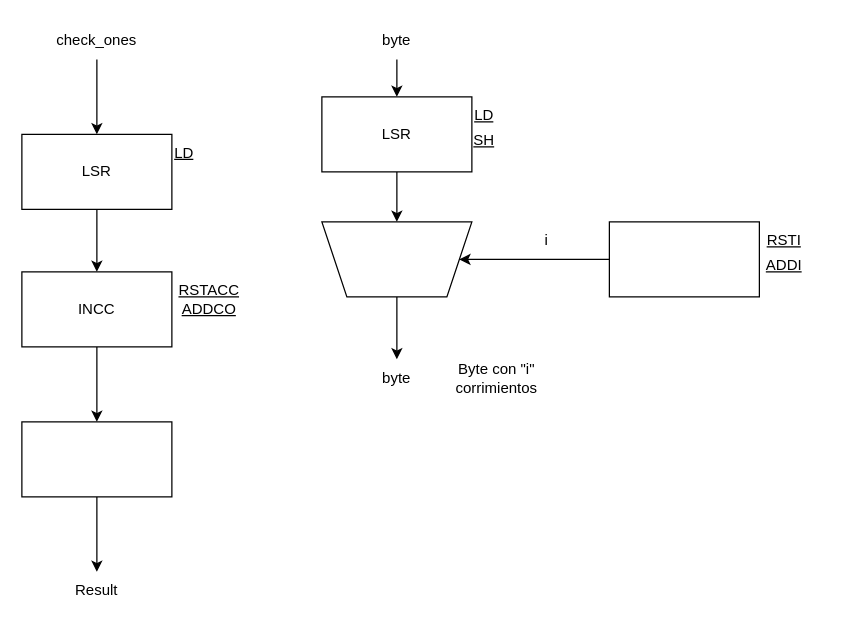
Some shapes in this 844 by 630 pixel diagram are drawn without their labels. Each missing label, with the centre of its shape:
"ACC_I" belongs at pixel 683 259.
"COMP" belongs at pixel 96 459.
